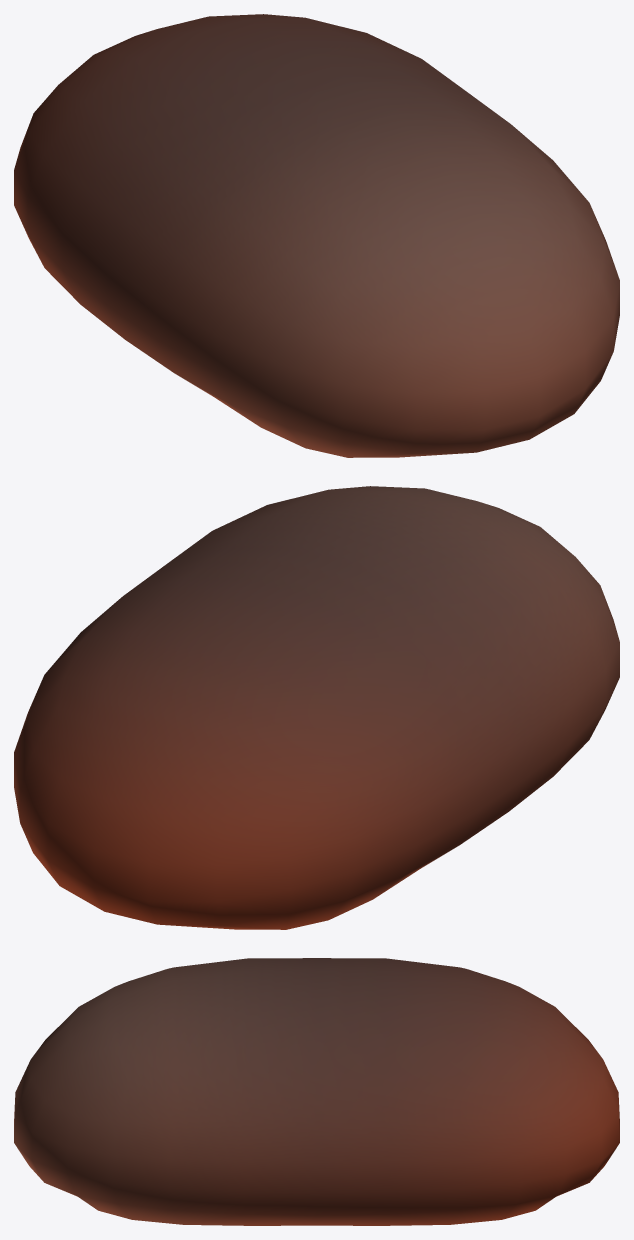
Rendered from bread_001.fbx.
The picture shows the model from 3 angles, top to bottom: view 1: azimuth 30°, elevation 25°; view 2: azimuth 150°, elevation 25°; view 3: azimuth 270°, elevation 25°; orthographic projection. The views are drawn at different scales.
Visible parts, largest first — view 1: bread_001; view 2: bread_001; view 3: bread_001.
Boxes of the visible parts, left/top/right/bottom form: bread_001: left=14, top=14, right=619, bottom=457; bread_001: left=14, top=486, right=619, bottom=929; bread_001: left=14, top=958, right=619, bottom=1225.
Bounding box in the file's own units: 20.77 × 33.69 × 11.48.
